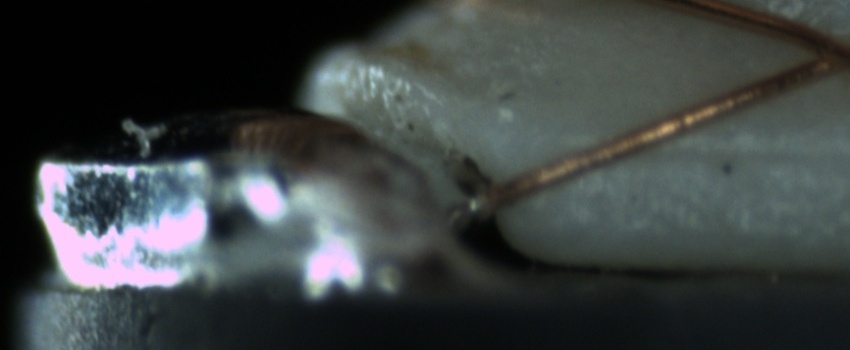CL: (793, 21, 849, 79)
DL: (568, 120, 844, 183)
